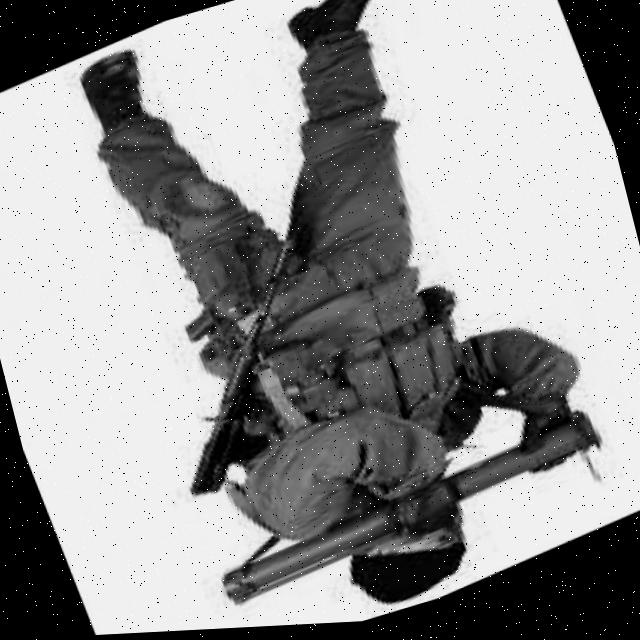rocket: (205, 410, 622, 615)
